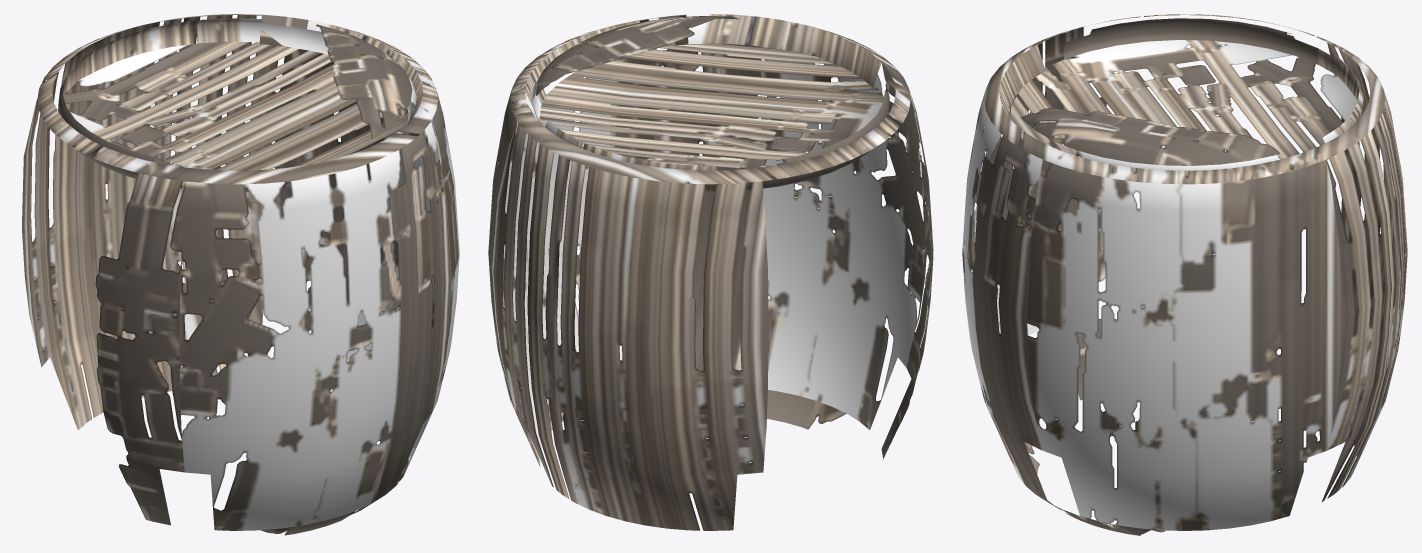
File: raw_model.obj
3 views of the same model, side by side, from view 1: azimuth 30°, elevation 25°; view 2: azimuth 150°, elevation 25°; view 3: azimuth 270°, elevation 25° (orthographic).
Parts seen in each view (by area): view 1: solid; view 2: solid; view 3: solid.
Part boxes in pixels (<box>): solid: <box>22,14,459,535</box>; solid: <box>488,14,933,530</box>; solid: <box>962,14,1407,535</box>.
Size of the model in its own units: 0.4534 by 0.4457 by 0.4532.
